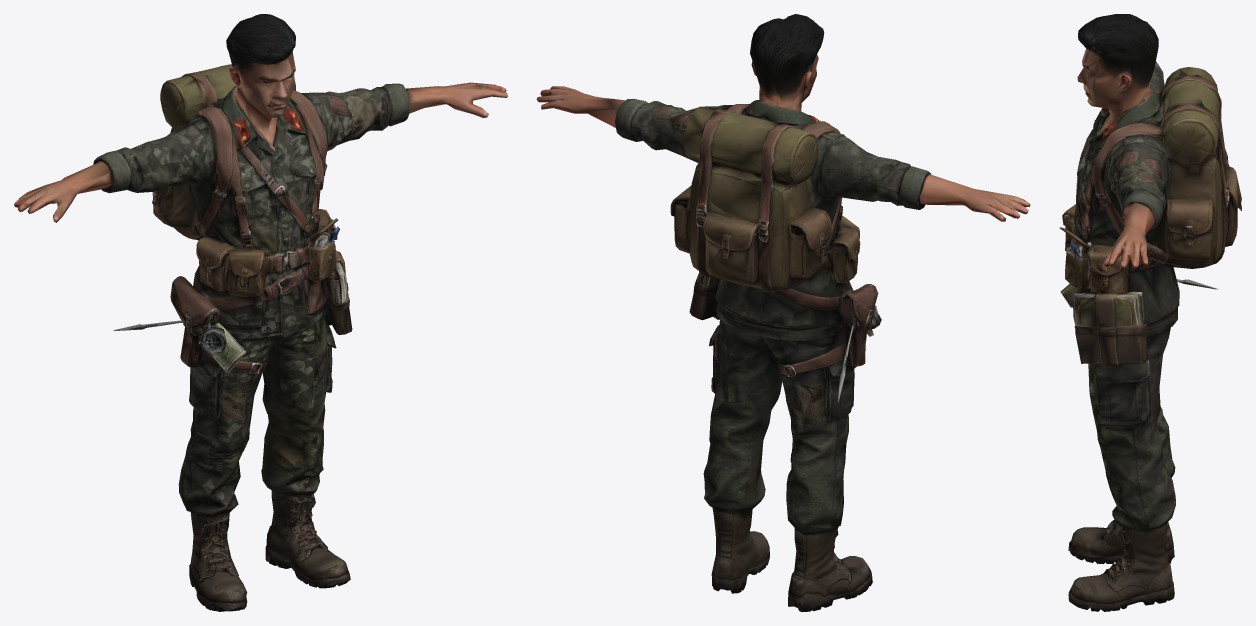
Rendered from hoang.glb.
The picture shows the model from 3 angles, left to right: view 1: azimuth 30°, elevation 25°; view 2: azimuth 150°, elevation 25°; view 3: azimuth 270°, elevation 25°; orthographic projection.
Parts seen in each view (by area): view 1: tripo_node_ac7e0fe5-23a9-4067-90d0-d3d58acd8bce; view 2: tripo_node_ac7e0fe5-23a9-4067-90d0-d3d58acd8bce; view 3: tripo_node_ac7e0fe5-23a9-4067-90d0-d3d58acd8bce.
Part boxes in pixels (box(x1,y1,x2,y2)): tripo_node_ac7e0fe5-23a9-4067-90d0-d3d58acd8bce: box(14, 14, 507, 611); tripo_node_ac7e0fe5-23a9-4067-90d0-d3d58acd8bce: box(536, 14, 1030, 611); tripo_node_ac7e0fe5-23a9-4067-90d0-d3d58acd8bce: box(1059, 14, 1241, 611).
Size of the model in its own units: 0.8854 by 0.9778 by 0.2887.
Materials: 1 (1 with a texture image).
